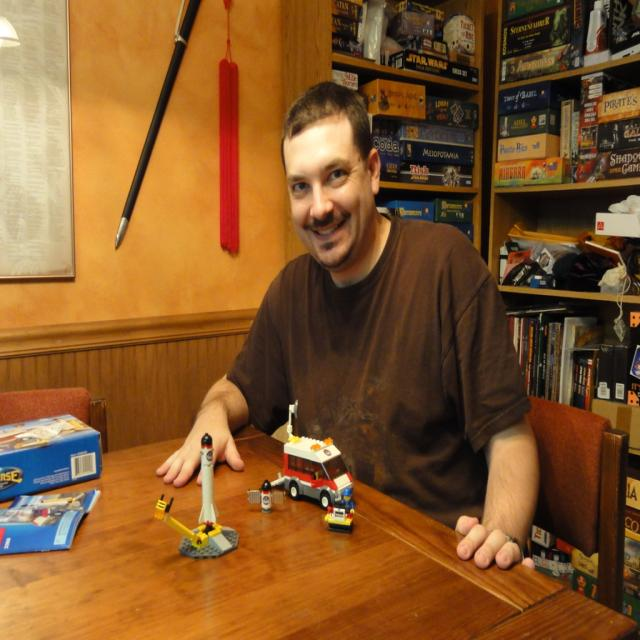pen: (112, 0, 203, 251)
